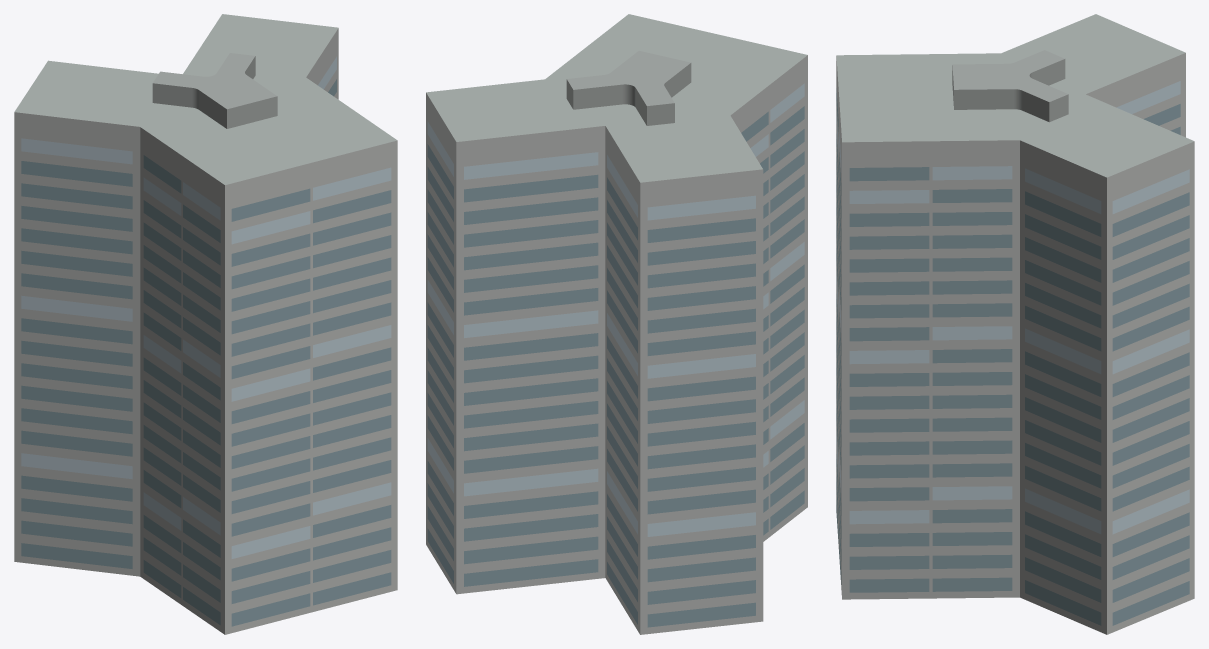
Rendered from fallback-godeok-ipark-109.glb.
The picture shows the model from 3 angles, left to right: view 1: azimuth 30°, elevation 25°; view 2: azimuth 150°, elevation 25°; view 3: azimuth 270°, elevation 25°; orthographic projection.
Visible parts, largest first — view 1: fallback-godeok-ipark-109; view 2: fallback-godeok-ipark-109; view 3: fallback-godeok-ipark-109.
Part boxes in pixels (left/top/right/bottom): fallback-godeok-ipark-109: left=14, top=14, right=397, bottom=634; fallback-godeok-ipark-109: left=426, top=14, right=807, bottom=634; fallback-godeok-ipark-109: left=836, top=14, right=1194, bottom=634.
Bounding box in the file's own units: 41.92 × 57 × 38.79.
